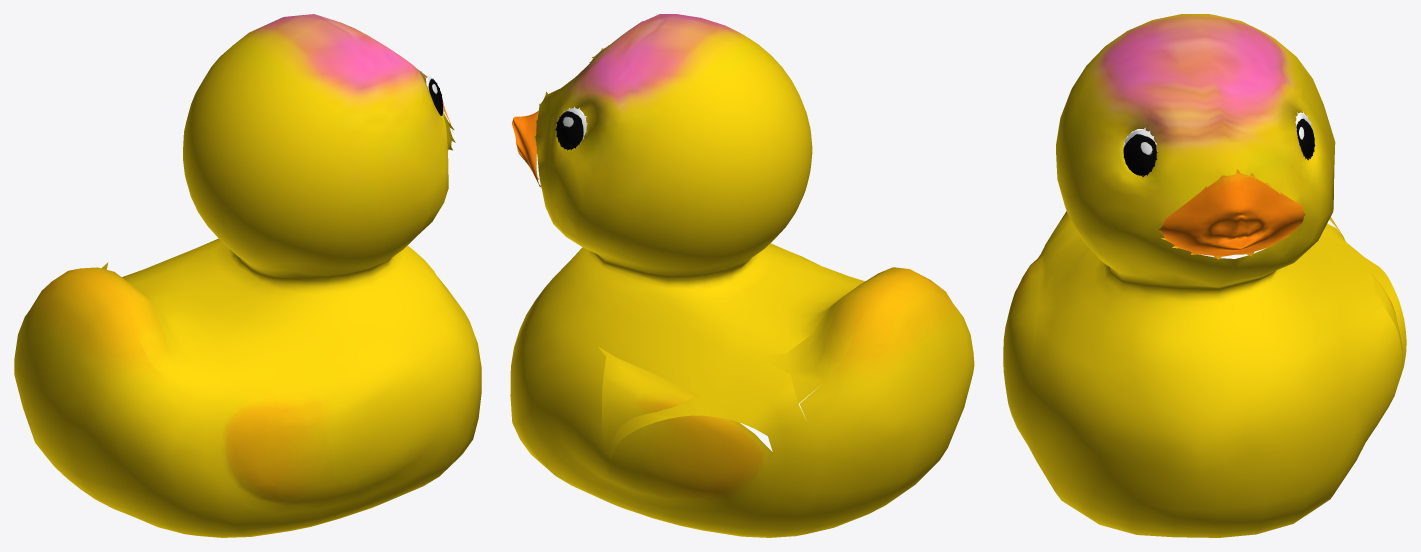
Rendered from Duck.gltf.
3 renders of one model, left to right at view 1: azimuth 30°, elevation 25°; view 2: azimuth 150°, elevation 25°; view 3: azimuth 270°, elevation 25°, orthographic. The views are drawn at different scales.
Visible parts, largest first — view 1: LOD3spShape; view 2: LOD3spShape; view 3: LOD3spShape.
Boxes of the visible parts, <box> form: LOD3spShape: <box>14,14,481,537</box>; LOD3spShape: <box>510,14,974,537</box>; LOD3spShape: <box>1003,14,1406,537</box>.
Bounding box in the file's own units: 1.54 × 1.54 × 1.2.
1 material, 1 textured.
